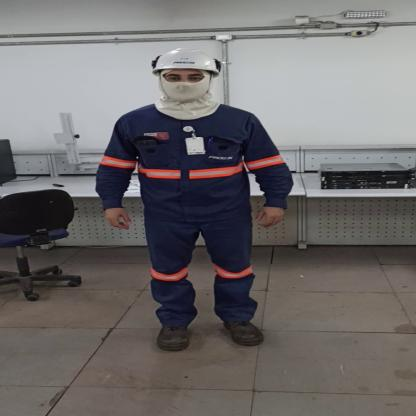Balaclava: (150, 74, 226, 121)
Capacete: (148, 46, 230, 76)
